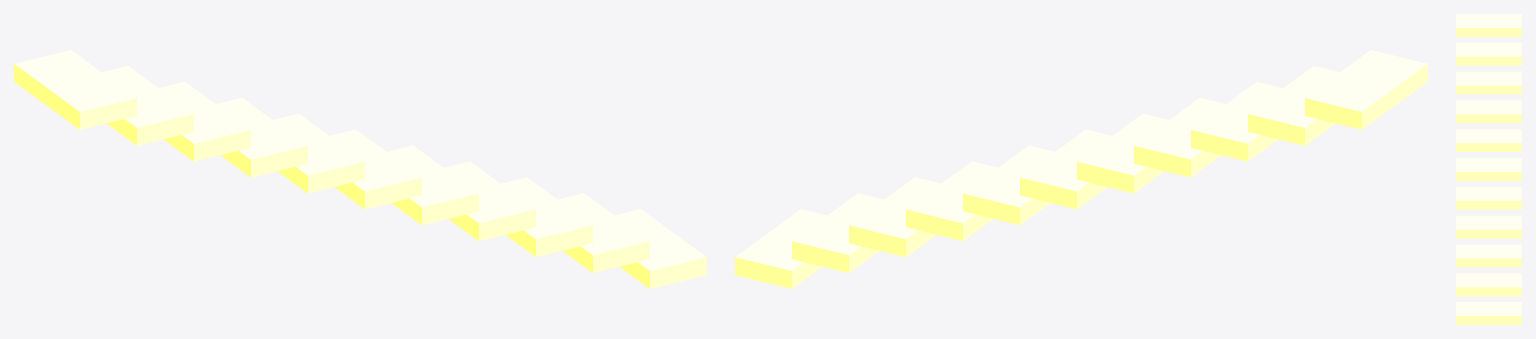
File: staircase.glb
3 views of the same model, side by side, from view 1: azimuth 30°, elevation 25°; view 2: azimuth 150°, elevation 25°; view 3: azimuth 270°, elevation 25° (orthographic). The views are drawn at different scales.
Visible parts, largest first — view 1: Staircase10, Staircase4, Staircase6, Staircase3, Staircase1, Staircase2, Staircase9, Staircase0, Staircase5, Staircase7, Staircase8; view 2: Staircase10, Staircase4, Staircase6, Staircase3, Staircase1, Staircase2, Staircase9, Staircase0, Staircase5, Staircase7, Staircase8; view 3: Staircase3, Staircase1, Staircase2, Staircase7, Staircase8, Staircase9, Staircase5, Staircase0, Staircase4, Staircase6, Staircase10.
Part boxes in pixels (x1,y1,x2,y2): Staircase10: (14,50,136,129); Staircase4: (387,145,478,225); Staircase6: (273,113,364,193); Staircase3: (444,161,535,240); Staircase1: (558,193,649,272); Staircase2: (501,177,592,256); Staircase9: (102,66,193,145); Staircase0: (615,209,706,288); Staircase5: (330,129,421,209); Staircase7: (216,98,307,177); Staircase8: (159,82,250,161); Staircase10: (1305,50,1427,129); Staircase4: (963,145,1054,225); Staircase6: (1077,113,1168,193); Staircase3: (906,161,997,240); Staircase1: (792,193,883,272); Staircase2: (849,177,940,256); Staircase9: (1248,66,1339,145); Staircase0: (735,209,826,288); Staircase5: (1020,129,1111,209); Staircase7: (1134,98,1225,177); Staircase8: (1191,82,1282,161); Staircase3: (1456,215,1521,238); Staircase1: (1456,273,1521,296); Staircase2: (1456,244,1521,267); Staircase7: (1456,100,1521,123); Staircase8: (1456,71,1521,94); Staircase9: (1456,42,1521,65); Staircase5: (1456,158,1521,180); Staircase0: (1456,302,1521,324); Staircase4: (1456,187,1521,209); Staircase6: (1456,129,1521,151); Staircase10: (1456,14,1521,36).
Size of what is drawn, in the model's own units: 22 by 10.6 by 4.
